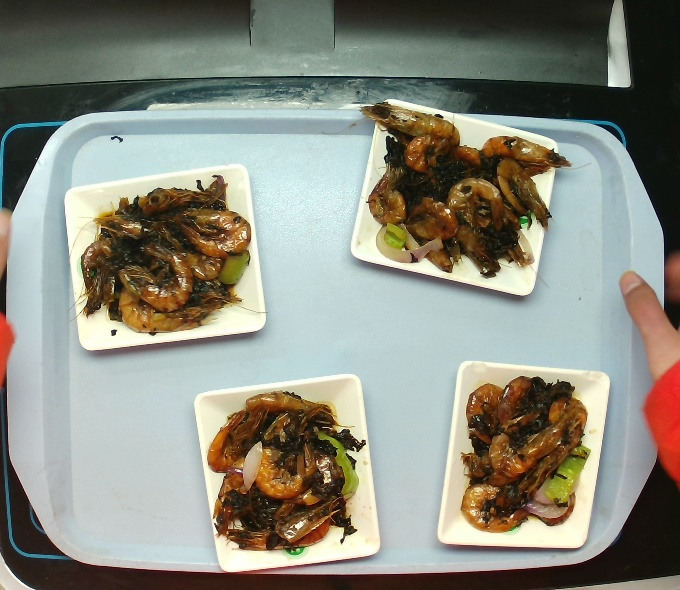wcq-GanCaiXia: (363, 103, 556, 278), (81, 168, 246, 343), (451, 364, 598, 538), (209, 389, 358, 556)
